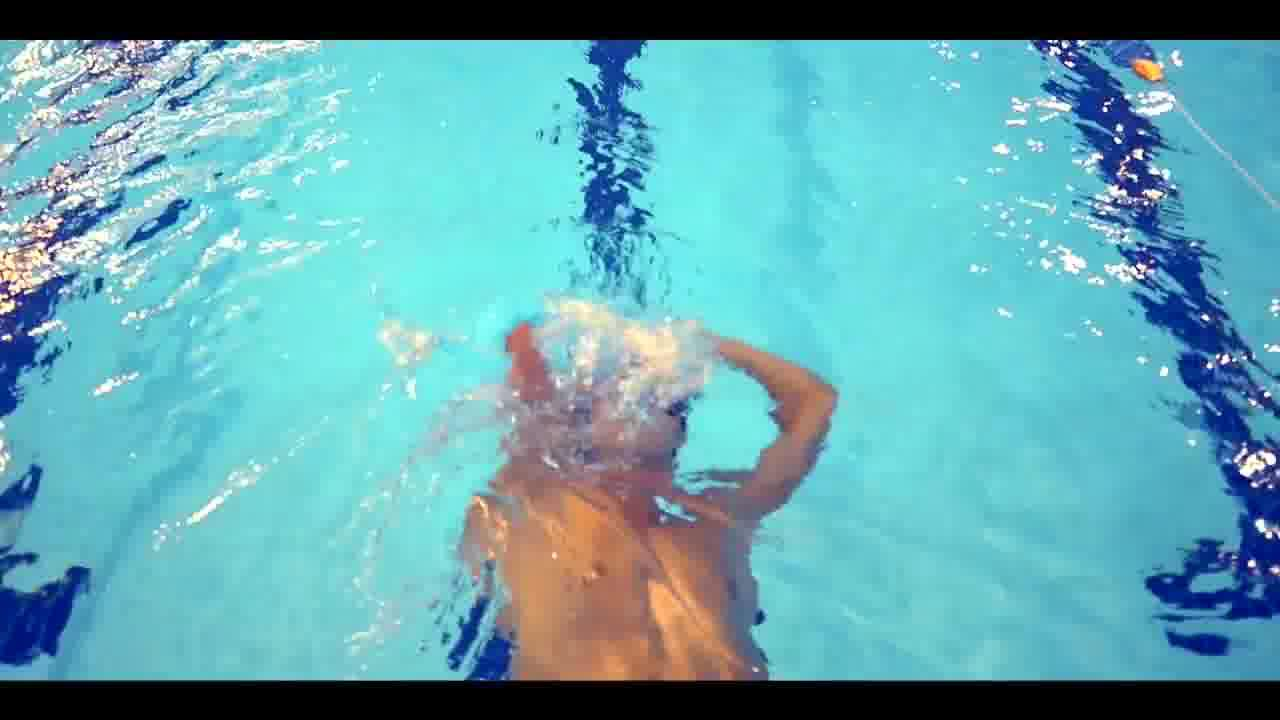human: (455, 303, 852, 698)
